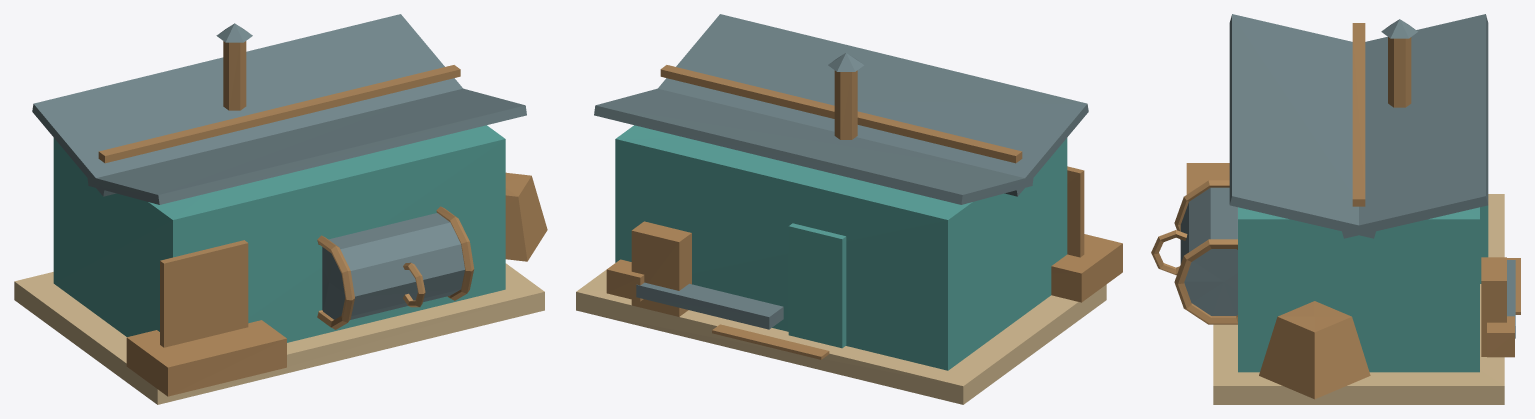
File: Cannery.glb
3 renders of one model, left to right at view 1: azimuth 30°, elevation 25°; view 2: azimuth 150°, elevation 25°; view 3: azimuth 270°, elevation 25°, orthographic.
Visible parts, largest first — view 1: wind-pump-static-cannery-sage-processing-panels, wind-pump-static-cannery-galvanized-roof, wind-pump-static-cannery-dark-industrial-frame, wind-pump-static-cannery-stone-curb, wind-pump-static-cannery-retort-steel, wind-pump-static-cannery-loading-timber; view 2: wind-pump-static-cannery-sage-processing-panels, wind-pump-static-cannery-galvanized-roof, wind-pump-static-cannery-stone-curb, wind-pump-static-cannery-dark-industrial-frame, wind-pump-static-cannery-retort-steel, wind-pump-static-cannery-loading-timber; view 3: wind-pump-static-cannery-galvanized-roof, wind-pump-static-cannery-sage-processing-panels, wind-pump-static-cannery-dark-industrial-frame, wind-pump-static-cannery-stone-curb, wind-pump-static-cannery-retort-steel, wind-pump-static-cannery-loading-timber.
Part boxes in pixels (x1,y1,x2,y2): wind-pump-static-cannery-sage-processing-panels: (53, 125, 505, 342); wind-pump-static-cannery-galvanized-roof: (32, 14, 526, 204); wind-pump-static-cannery-dark-industrial-frame: (98, 41, 547, 347); wind-pump-static-cannery-stone-curb: (14, 263, 544, 404); wind-pump-static-cannery-retort-steel: (322, 213, 464, 319); wind-pump-static-cannery-loading-timber: (126, 320, 286, 396); wind-pump-static-cannery-sage-processing-panels: (615, 125, 1067, 370); wind-pump-static-cannery-galvanized-roof: (594, 14, 1088, 204); wind-pump-static-cannery-stone-curb: (576, 269, 1106, 404); wind-pump-static-cannery-dark-industrial-frame: (606, 65, 1084, 359); wind-pump-static-cannery-retort-steel: (636, 282, 783, 329); wind-pump-static-cannery-loading-timber: (1051, 234, 1122, 302); wind-pump-static-cannery-galvanized-roof: (1229, 14, 1488, 238); wind-pump-static-cannery-sage-processing-panels: (1238, 205, 1488, 372); wind-pump-static-cannery-dark-industrial-frame: (1151, 23, 1520, 399); wind-pump-static-cannery-stone-curb: (1213, 194, 1504, 404); wind-pump-static-cannery-retort-steel: (1180, 187, 1515, 338); wind-pump-static-cannery-loading-timber: (1186, 163, 1229, 194).
Size of the model in its own units: 4.46 by 2.63 by 3.17.
